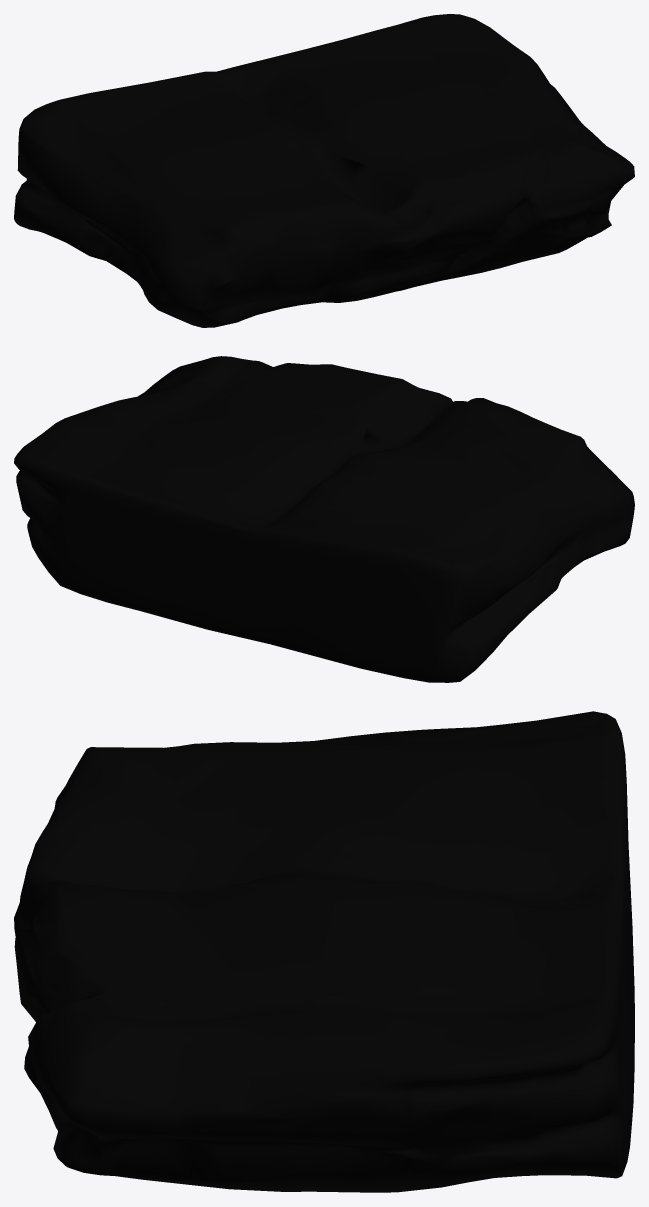
The model's file is Long.fbx.
The picture shows the model from 3 angles, top to bottom: view 1: azimuth 30°, elevation 25°; view 2: azimuth 150°, elevation 25°; view 3: azimuth 270°, elevation 25°; orthographic projection. The views are drawn at different scales.
Visible parts, largest first — view 1: LongLP; view 2: LongLP; view 3: LongLP.
Boxes of the visible parts, x1,y1,x2,y2 form: LongLP: (14, 14, 634, 327); LongLP: (14, 356, 634, 682); LongLP: (14, 711, 634, 1192).
Bounding box in the file's own units: 3.51 × 2.54 × 0.8662.
Materials: 1 (1 with a texture image).
